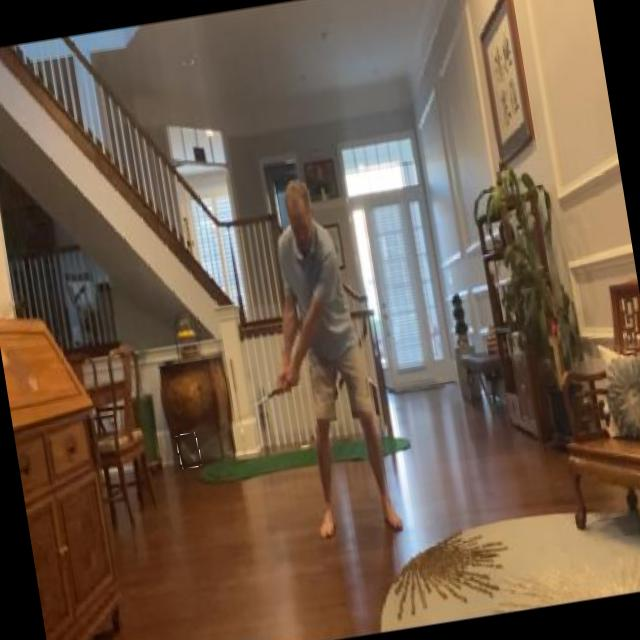club head: (176, 432, 202, 470)
